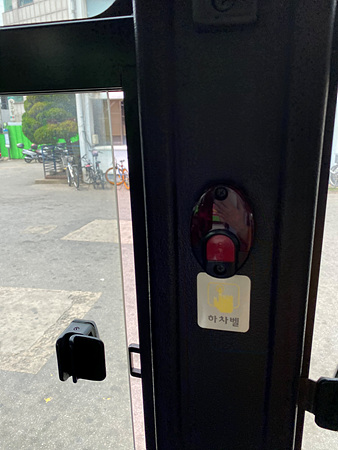bell: (191, 184, 252, 278)
